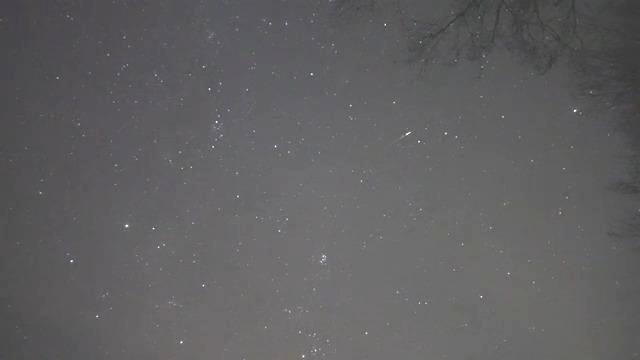meteorite: (385, 127, 421, 143)
